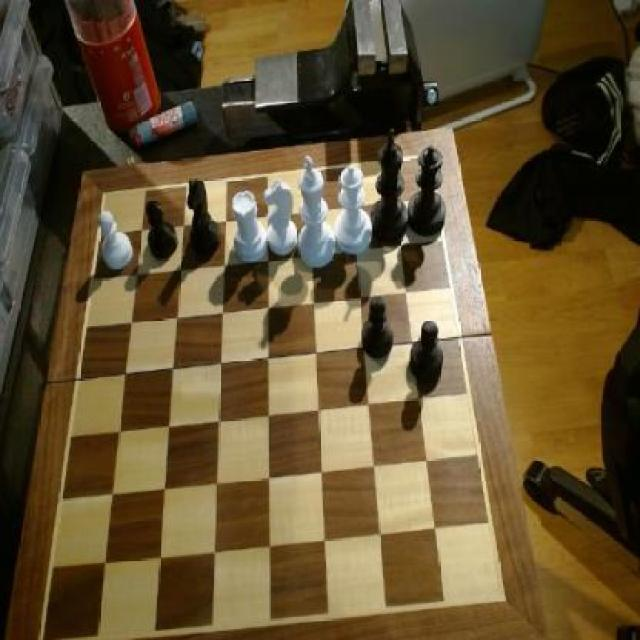black-bishop: (371, 126, 410, 242)
black-king: (184, 176, 223, 260)
black-knight: (409, 318, 446, 389), (361, 297, 397, 362), (143, 198, 179, 261)
black-pawn: (408, 143, 448, 241)
white-bishop: (295, 154, 338, 272)
white-king: (264, 178, 300, 258)
white-knight: (97, 208, 135, 272)
white-pawn: (336, 164, 376, 260)
white-queen: (231, 188, 268, 269)
